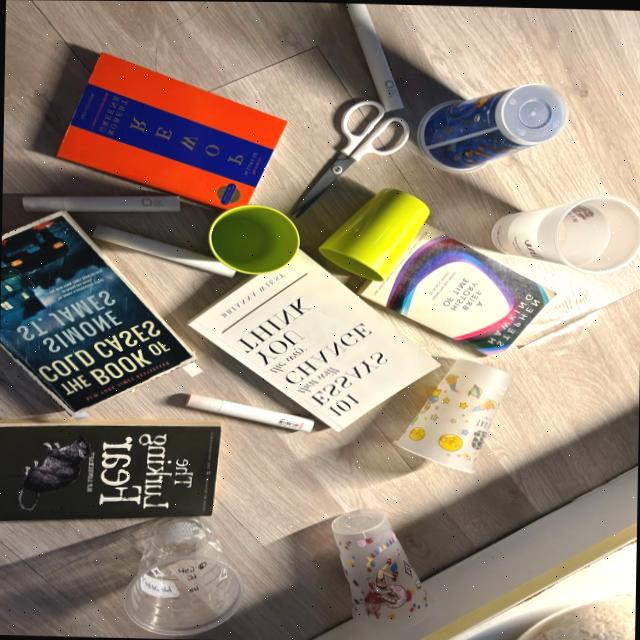Book: (188, 250, 438, 430), (0, 212, 201, 413), (57, 53, 286, 209), (359, 224, 555, 354), (0, 420, 220, 521)
HighLight Pen: (92, 225, 235, 276), (345, 3, 403, 110), (187, 394, 313, 431), (22, 195, 179, 211)
Plastic Cup: (125, 518, 242, 635), (417, 83, 568, 171), (394, 358, 509, 470), (491, 194, 640, 272), (332, 508, 427, 623)
Scissors: (291, 100, 409, 216)
WaterGlass: (319, 188, 429, 280), (208, 204, 299, 273)
